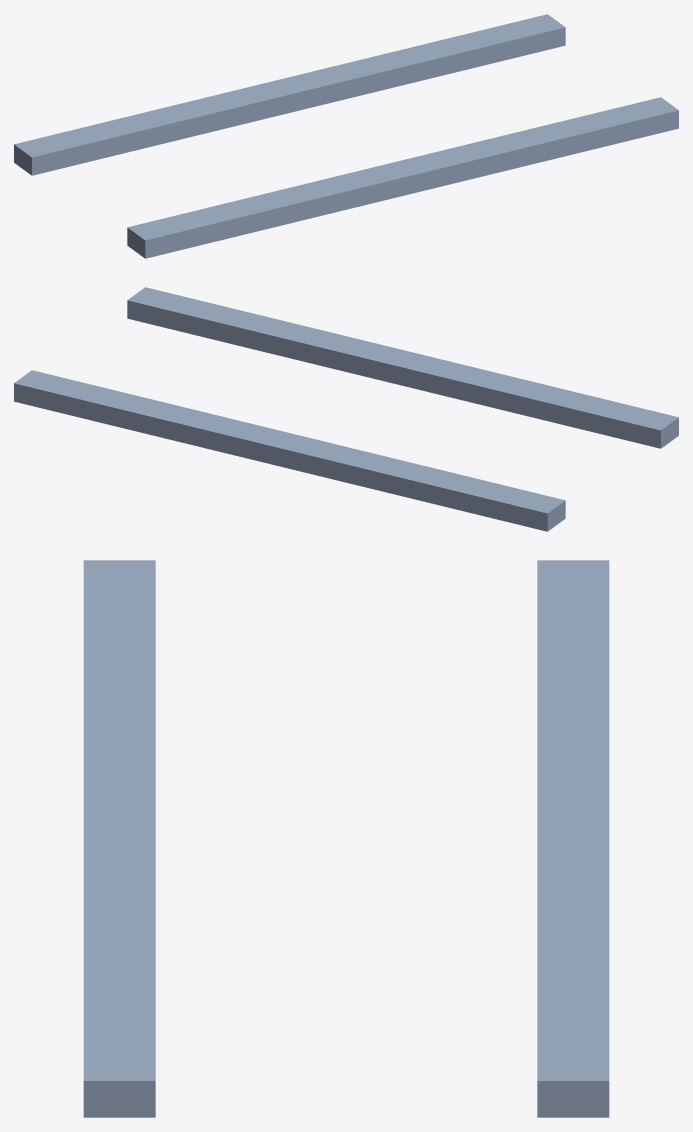
The model's file is trackSimpleStraight.fbx.
The picture shows the model from 3 angles, top to bottom: view 1: azimuth 30°, elevation 25°; view 2: azimuth 150°, elevation 25°; view 3: azimuth 270°, elevation 25°; orthographic projection. The views are drawn at different scales.
Visible parts, largest first — view 1: trackSimpleStraight; view 2: trackSimpleStraight; view 3: trackSimpleStraight.
Boxes of the visible parts, bbox=[...] form: trackSimpleStraight: bbox=[14, 14, 678, 258]; trackSimpleStraight: bbox=[14, 287, 678, 531]; trackSimpleStraight: bbox=[83, 560, 609, 1117].
Size of the model in its own units: 3.08 by 0.1009 by 1.31.
